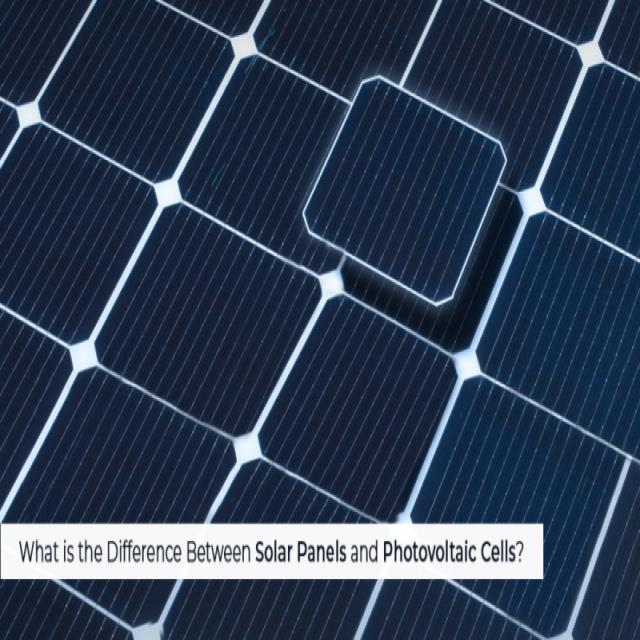no faulty: (0, 0, 639, 517)
